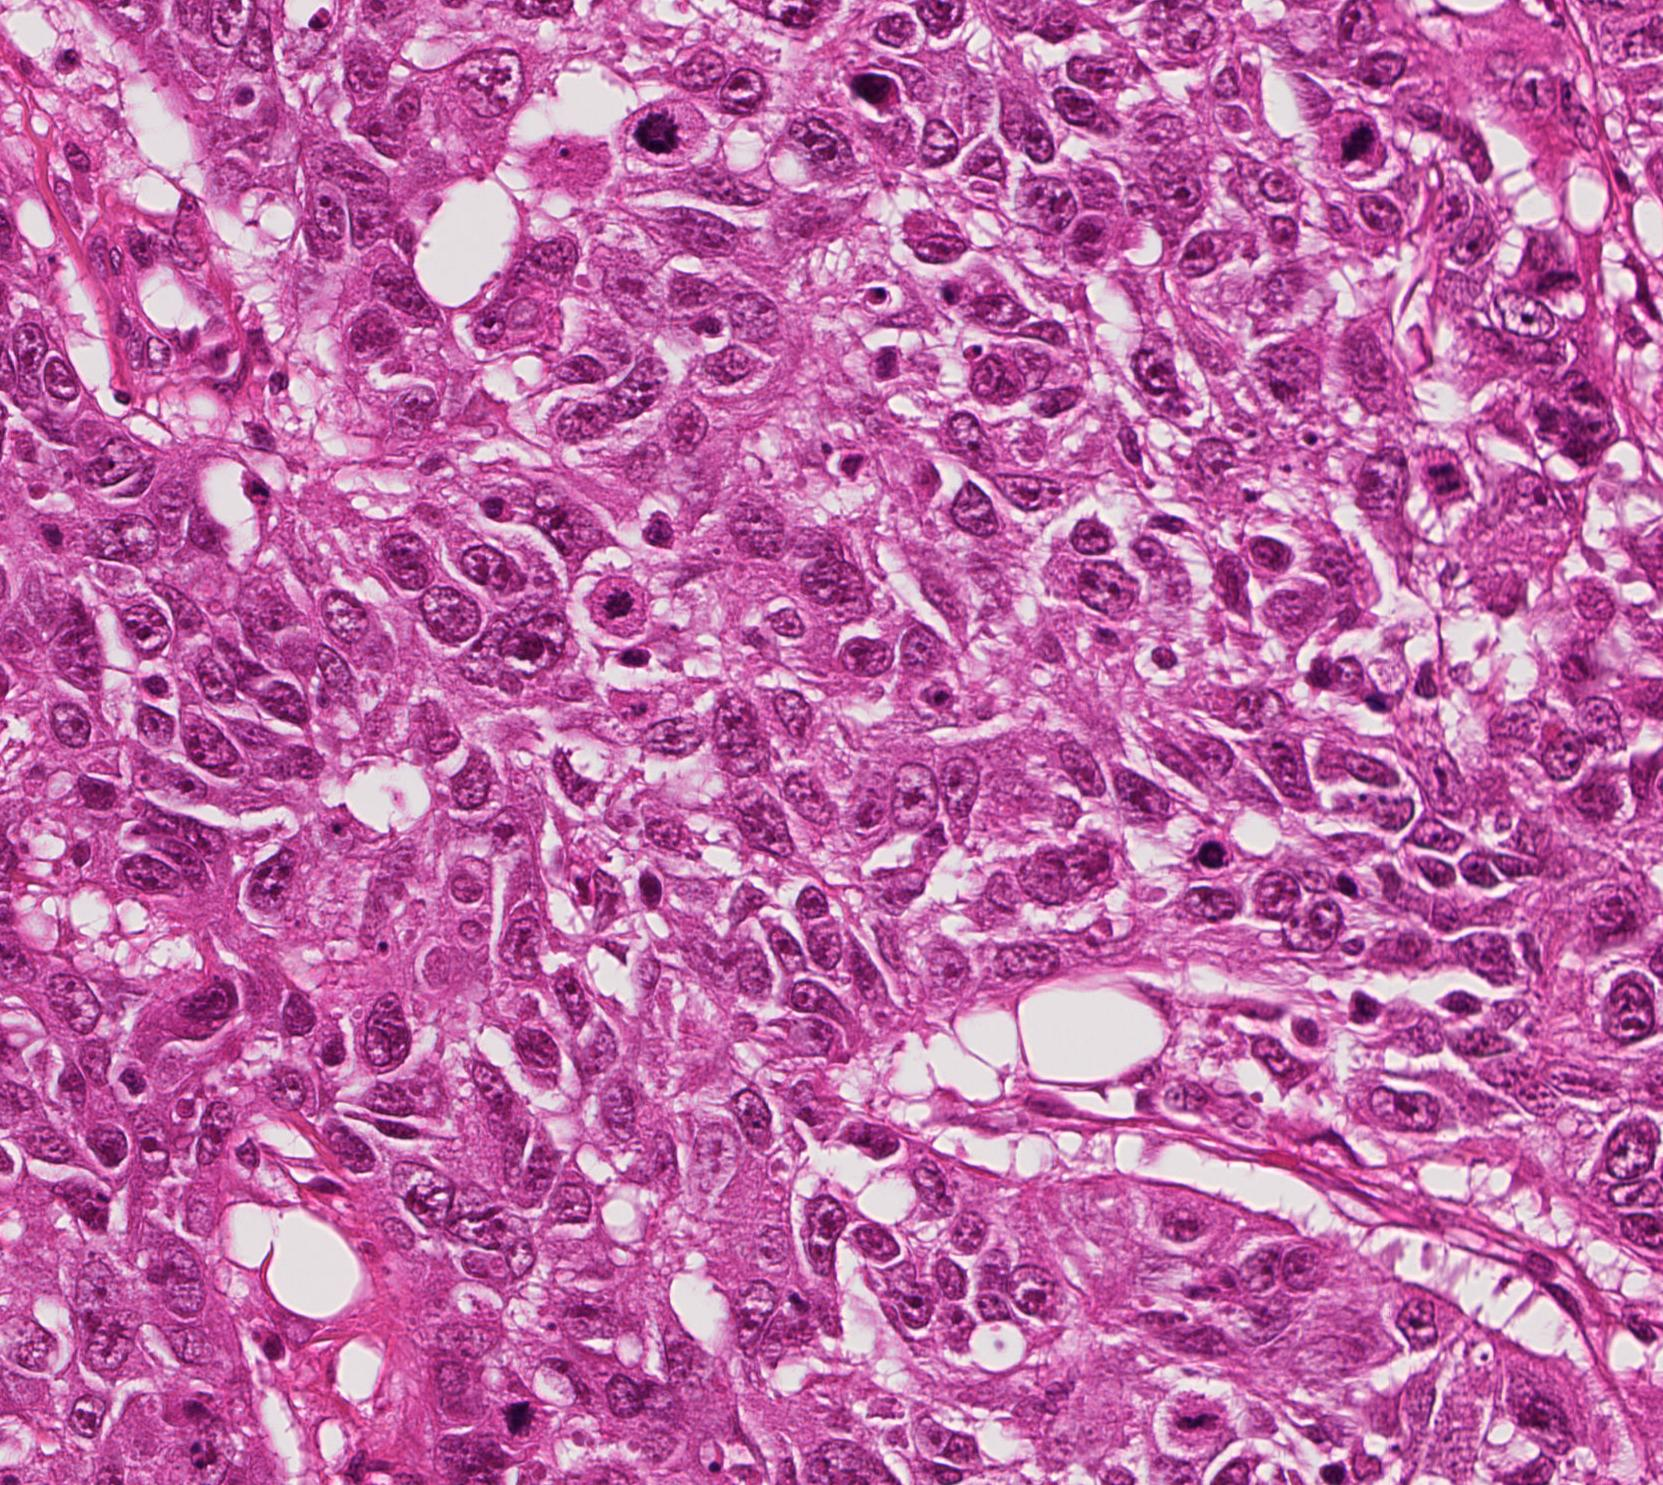mitosis: (1168, 1390, 1229, 1451), (1328, 110, 1388, 171), (1411, 444, 1471, 505), (586, 569, 647, 629), (487, 1388, 548, 1448), (628, 105, 688, 163)
